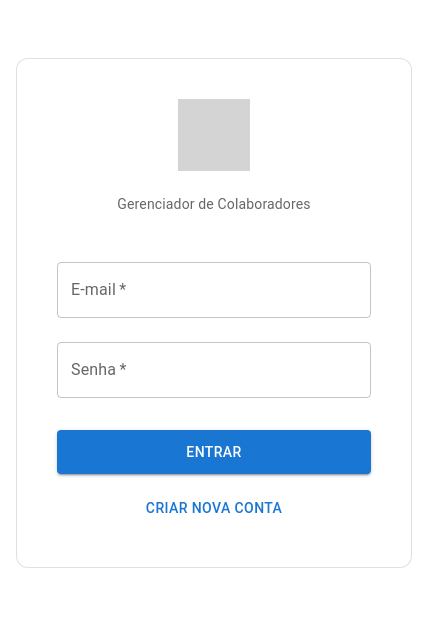
Test: getFriendlyAuthErrorMessage › exibe mensagem específica ao tentar cadastrar com e-mail já usado
Click the button "Criar nova conta" at (214, 508), box x1=57 y1=490 x2=371 y2=527
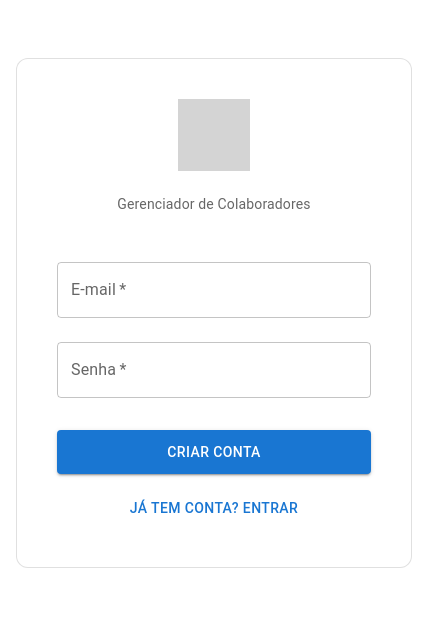
Type "user@example.com" into the field labelled "E-mail *" at (214, 290), box x1=57 y1=262 x2=371 y2=318
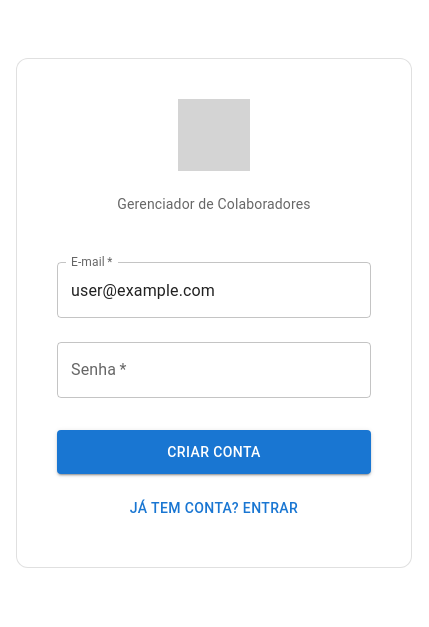
Type "password123" into the password field labelled "Senha *" at (214, 370), box x1=57 y1=342 x2=371 y2=398
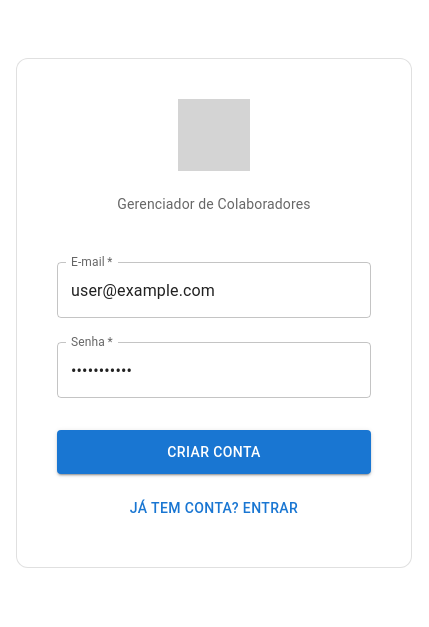
Click the button "Criar Conta" at (214, 452), box x1=57 y1=430 x2=371 y2=474
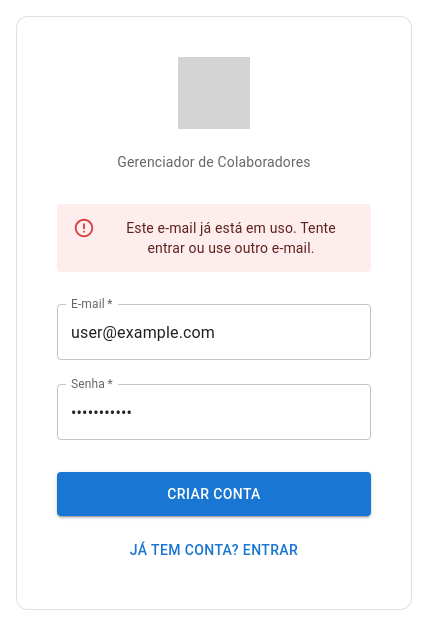
Now the text "Este e-mail já está em uso. Tente entrar ou use outro e-mail." is shown, box x1=126 y1=220 x2=336 y2=256
